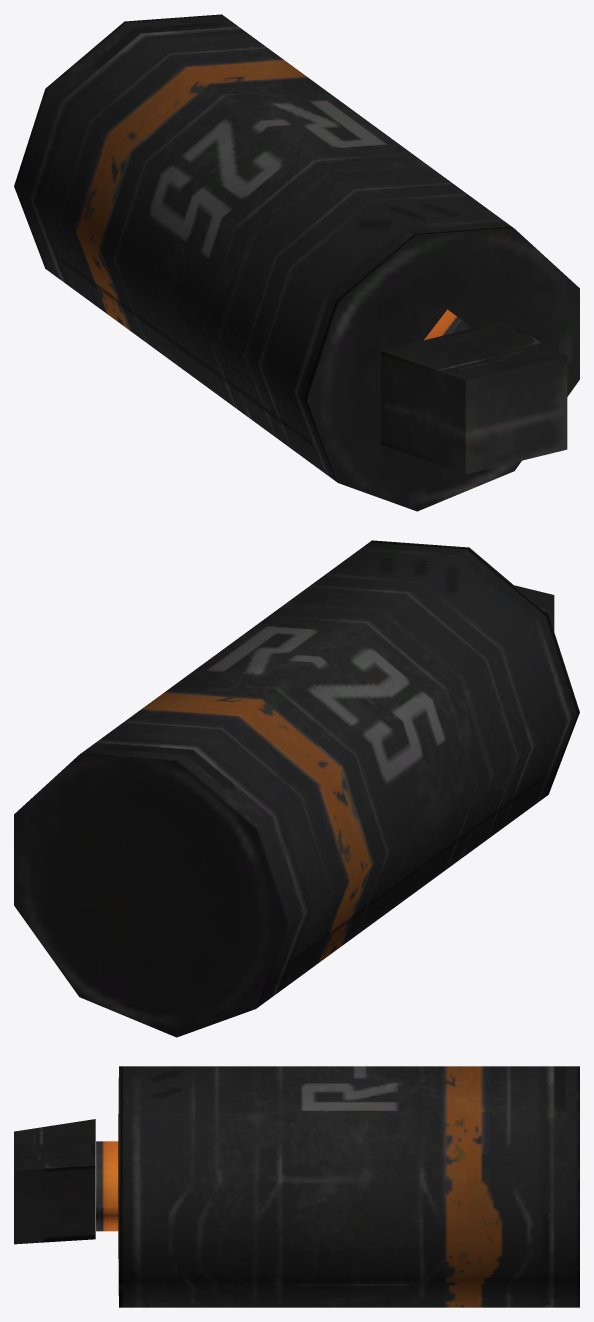
The model's file is t6_wpn_grenade_supply_projectile_LOD2.obj.
3 renders of one model, top to bottom at view 1: azimuth 30°, elevation 25°; view 2: azimuth 150°, elevation 25°; view 3: azimuth 270°, elevation 25°, orthographic. The views are drawn at different scales.
Parts seen in each view (by area): view 1: mtl_t6_wpn_grenade_supply; view 2: mtl_t6_wpn_grenade_supply; view 3: mtl_t6_wpn_grenade_supply.
Part boxes in pixels (x1=…): mtl_t6_wpn_grenade_supply: x1=14, y1=14, x2=579, y2=511; mtl_t6_wpn_grenade_supply: x1=14, y1=540, x2=579, y2=1037; mtl_t6_wpn_grenade_supply: x1=14, y1=1066, x2=579, y2=1307.
Size of the model in its own units: 6.09 by 5.88 by 13.88.
